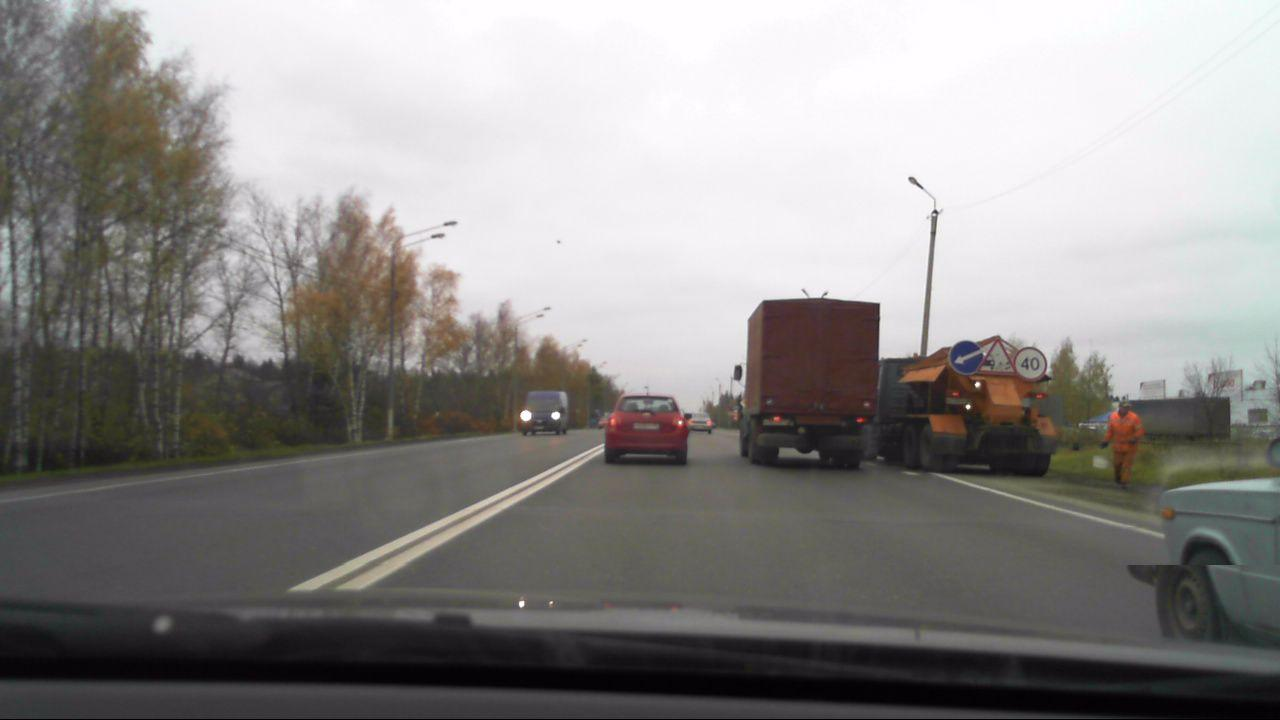1_18: (975, 339, 1013, 377)
3_24: (1014, 343, 1047, 380)
4_2_2: (949, 338, 982, 377)
